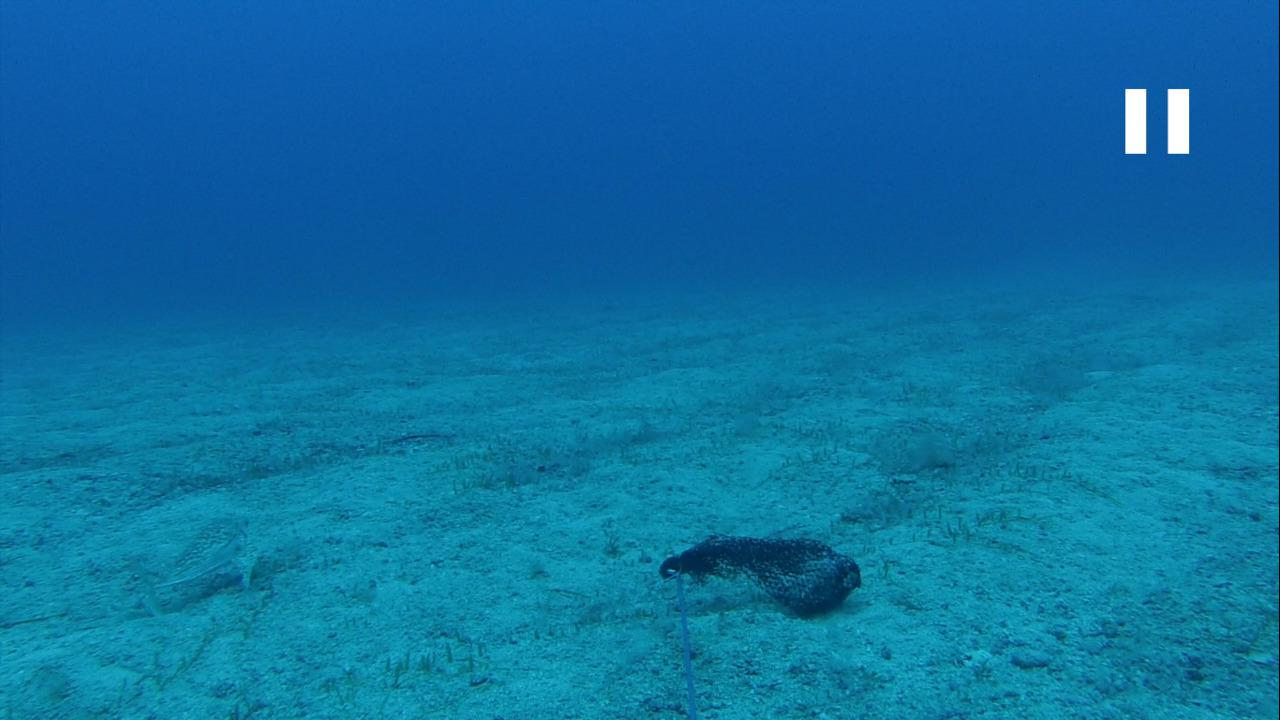dactylopterus: (128, 511, 269, 607)
